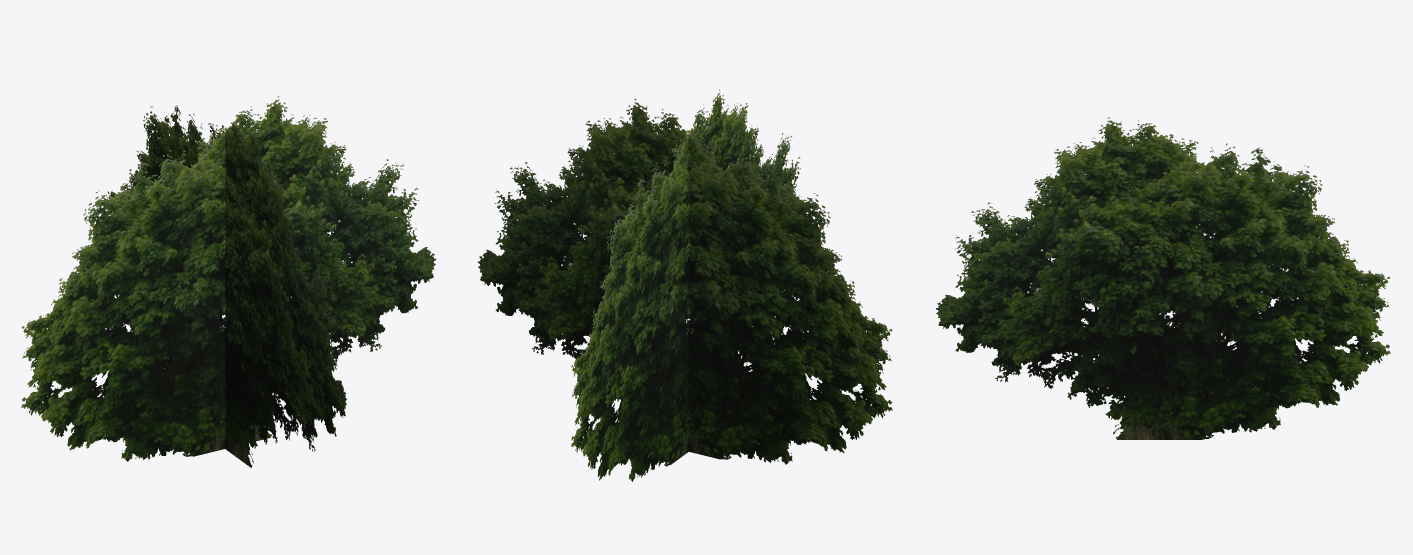
File: tree3.FBX
3 views of the same model, side by side, from view 1: azimuth 30°, elevation 25°; view 2: azimuth 150°, elevation 25°; view 3: azimuth 270°, elevation 25° (orthographic). The views are drawn at different scales.
Visible parts, largest first — view 1: ghfhgfhgfdgfdg; view 2: ghfhgfhgfdgfdg; view 3: ghfhgfhgfdgfdg.
Boxes of the visible parts, left/top/right/bottom form: ghfhgfhgfdgfdg: left=21, top=96, right=435, bottom=467; ghfhgfhgfdgfdg: left=478, top=89, right=892, bottom=481; ghfhgfhgfdgfdg: left=936, top=117, right=1390, bottom=439.
Bounding box in the file's own units: 534 × 534 × 411.
Materials: 1 (1 with a texture image).
